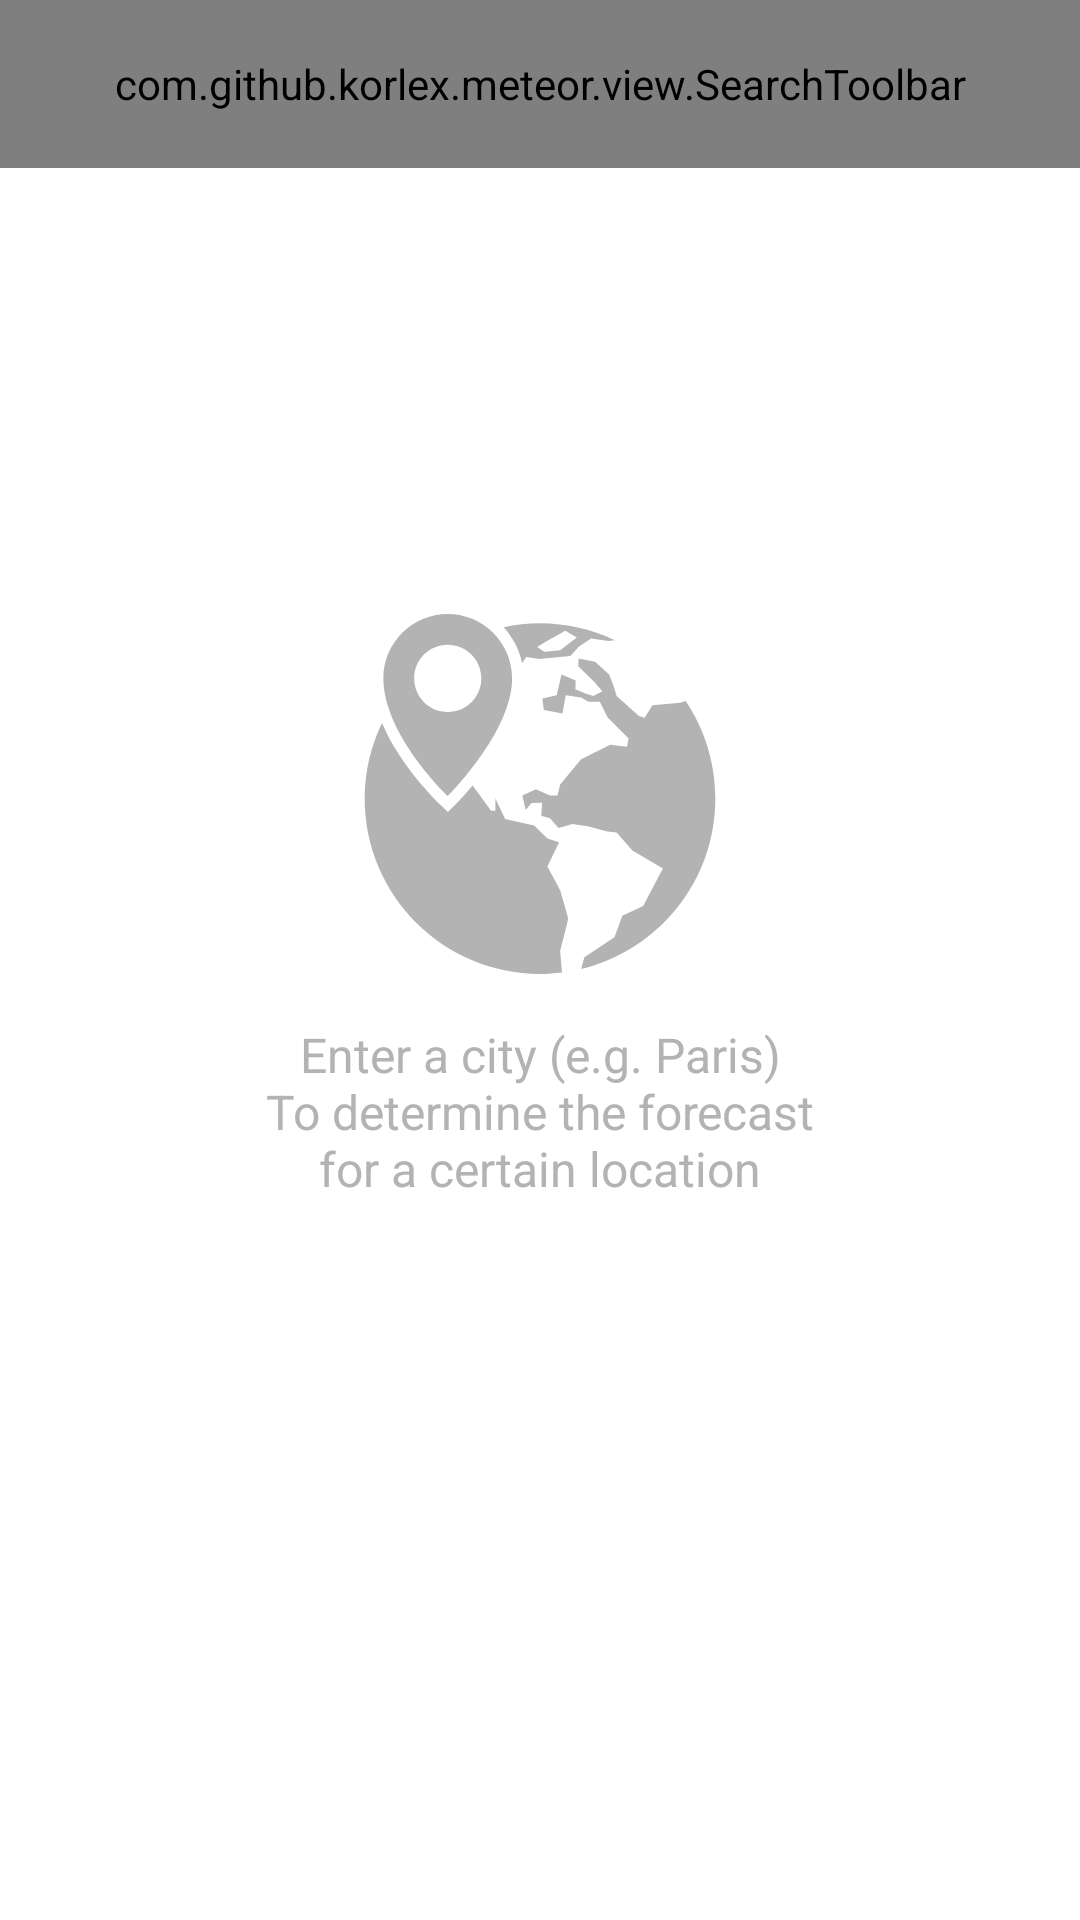

Icons on this 1080x1920 Android screen, each with the point to tap as (x,y):
loc world: (539,794)
